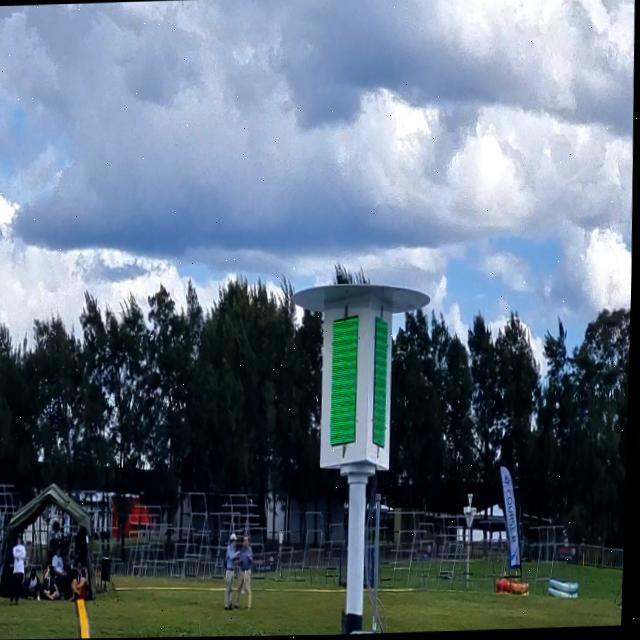led: (324, 306, 367, 453)
